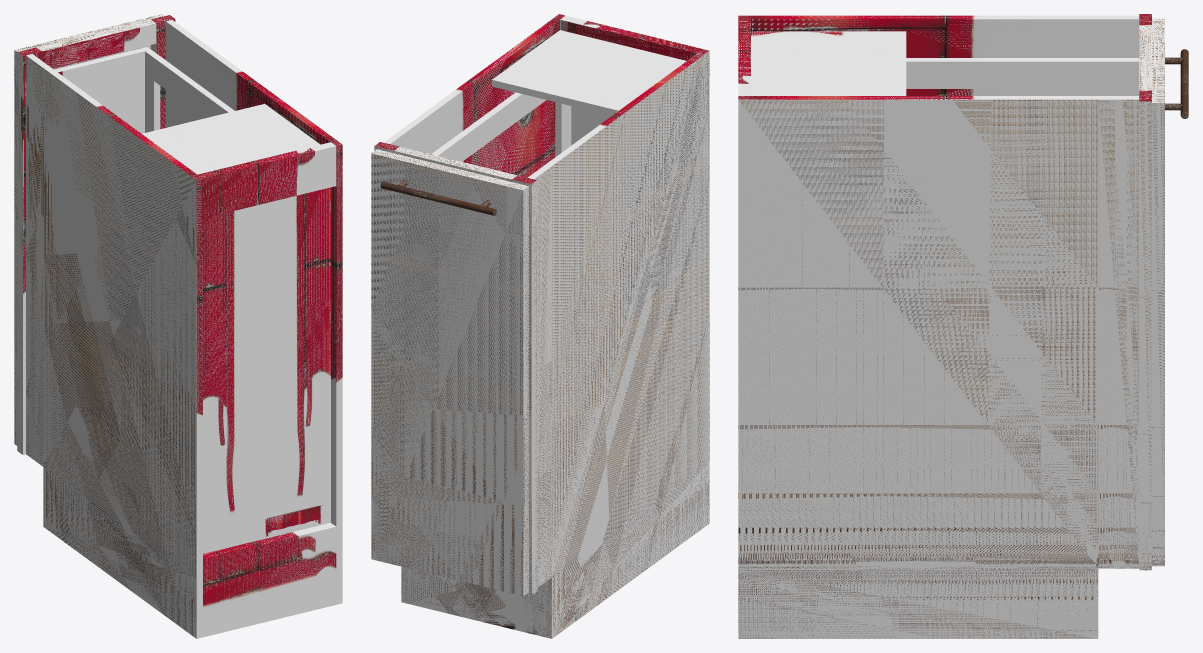
3 views of the same model, side by side, from view 1: azimuth 30°, elevation 25°; view 2: azimuth 150°, elevation 25°; view 3: azimuth 270°, elevation 25° (orthographic). The views are drawn at different scales.
Parts seen in each view (by area): view 1: mesh7_mesh7-geometry, mesh4_mesh4-geometry, mesh12_mesh12-geometry, mesh8_mesh8-geometry, mesh10_mesh10-geometry, mesh6_mesh6-geometry, mesh14_mesh14-geometry, mesh3_mesh3-geometry, mesh2_mesh2-geometry, mesh18_mesh18-geometry, mesh5_mesh5-geometry, mesh24_mesh24-geometry (+4 smaller); view 2: mesh7_mesh7-geometry, mesh24_mesh24-geometry, mesh8_mesh8-geometry, mesh14_mesh14-geometry, mesh10_mesh10-geometry, mesh6_mesh6-geometry, mesh13_mesh13-geometry, mesh2_mesh2-geometry, mesh15_mesh15-geometry, mesh3_mesh3-geometry, mesh5_mesh5-geometry, mesh23_mesh23-geometry (+2 smaller); view 3: mesh10_mesh10-geometry, mesh11_mesh11-geometry, mesh9_mesh9-geometry, mesh7_mesh7-geometry, mesh14_mesh14-geometry, mesh24_mesh24-geometry, mesh15_mesh15-geometry, mesh2_mesh2-geometry, mesh6_mesh6-geometry, mesh3_mesh3-geometry, mesh5_mesh5-geometry, mesh17_mesh17-geometry.
Boxes of the visible parts, bbox=[...] form: mesh7_mesh7-geometry: bbox=[43, 66, 202, 578]; mesh4_mesh4-geometry: bbox=[203, 187, 330, 553]; mesh12_mesh12-geometry: bbox=[203, 523, 336, 637]; mesh8_mesh8-geometry: bbox=[43, 467, 202, 638]; mesh10_mesh10-geometry: bbox=[183, 32, 342, 544]; mesh6_mesh6-geometry: bbox=[26, 54, 49, 466]; mesh14_mesh14-geometry: bbox=[142, 104, 320, 174]; mesh3_mesh3-geometry: bbox=[198, 142, 336, 218]; mesh2_mesh2-geometry: bbox=[17, 15, 175, 454]; mesh18_mesh18-geometry: bbox=[54, 48, 144, 133]; mesh5_mesh5-geometry: bbox=[36, 19, 156, 68]; mesh24_mesh24-geometry: bbox=[14, 14, 164, 445]; mesh7_mesh7-geometry: bbox=[546, 49, 709, 576]; mesh24_mesh24-geometry: bbox=[371, 149, 528, 596]; mesh8_mesh8-geometry: bbox=[545, 462, 709, 638]; mesh14_mesh14-geometry: bbox=[492, 30, 686, 115]; mesh10_mesh10-geometry: bbox=[401, 14, 565, 177]; mesh6_mesh6-geometry: bbox=[528, 164, 551, 587]; mesh13_mesh13-geometry: bbox=[408, 568, 545, 637]; mesh2_mesh2-geometry: bbox=[374, 142, 537, 595]; mesh15_mesh15-geometry: bbox=[431, 92, 546, 161]; mesh3_mesh3-geometry: bbox=[560, 15, 702, 60]; mesh5_mesh5-geometry: bbox=[394, 146, 516, 181]; mesh23_mesh23-geometry: bbox=[380, 181, 496, 215]; mesh10_mesh10-geometry: bbox=[738, 96, 1098, 568]; mesh11_mesh11-geometry: bbox=[738, 568, 1098, 638]; mesh9_mesh9-geometry: bbox=[1098, 96, 1139, 568]; mesh7_mesh7-geometry: bbox=[738, 15, 1098, 95]; mesh14_mesh14-geometry: bbox=[751, 31, 906, 95]; mesh24_mesh24-geometry: bbox=[1152, 18, 1164, 566]; mesh15_mesh15-geometry: bbox=[906, 58, 1121, 88]; mesh2_mesh2-geometry: bbox=[1139, 14, 1151, 570]; mesh6_mesh6-geometry: bbox=[1098, 15, 1139, 95]; mesh3_mesh3-geometry: bbox=[738, 19, 750, 95]; mesh5_mesh5-geometry: bbox=[1139, 25, 1151, 90]; mesh17_mesh17-geometry: bbox=[1122, 58, 1139, 95].
Size of the model in its own units: 0.2672 by 0.7682 by 0.5817.
